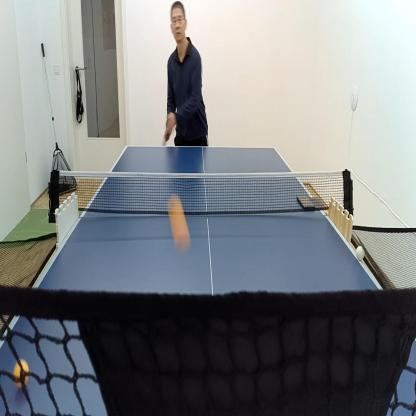Ball: (168, 192, 189, 247), (14, 361, 28, 386), (356, 245, 364, 259)
